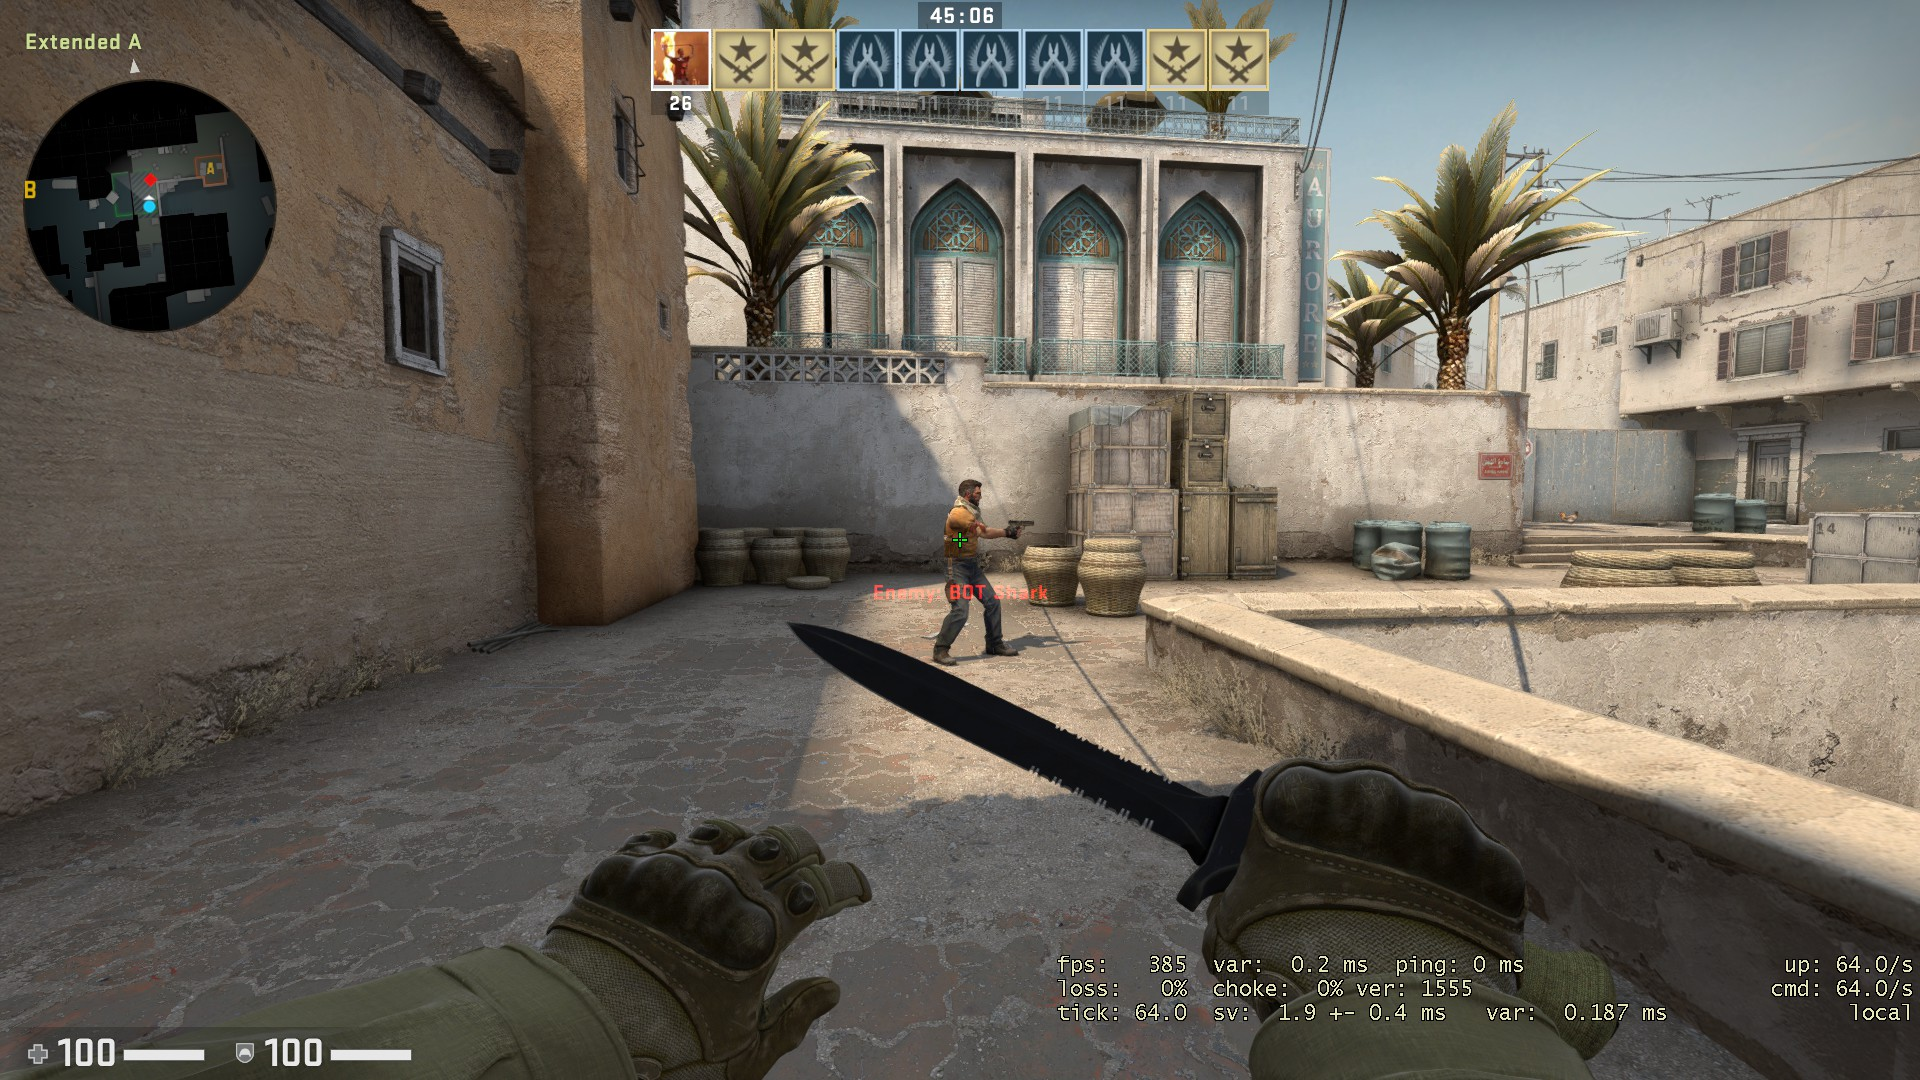player: (928, 473, 1037, 672)
